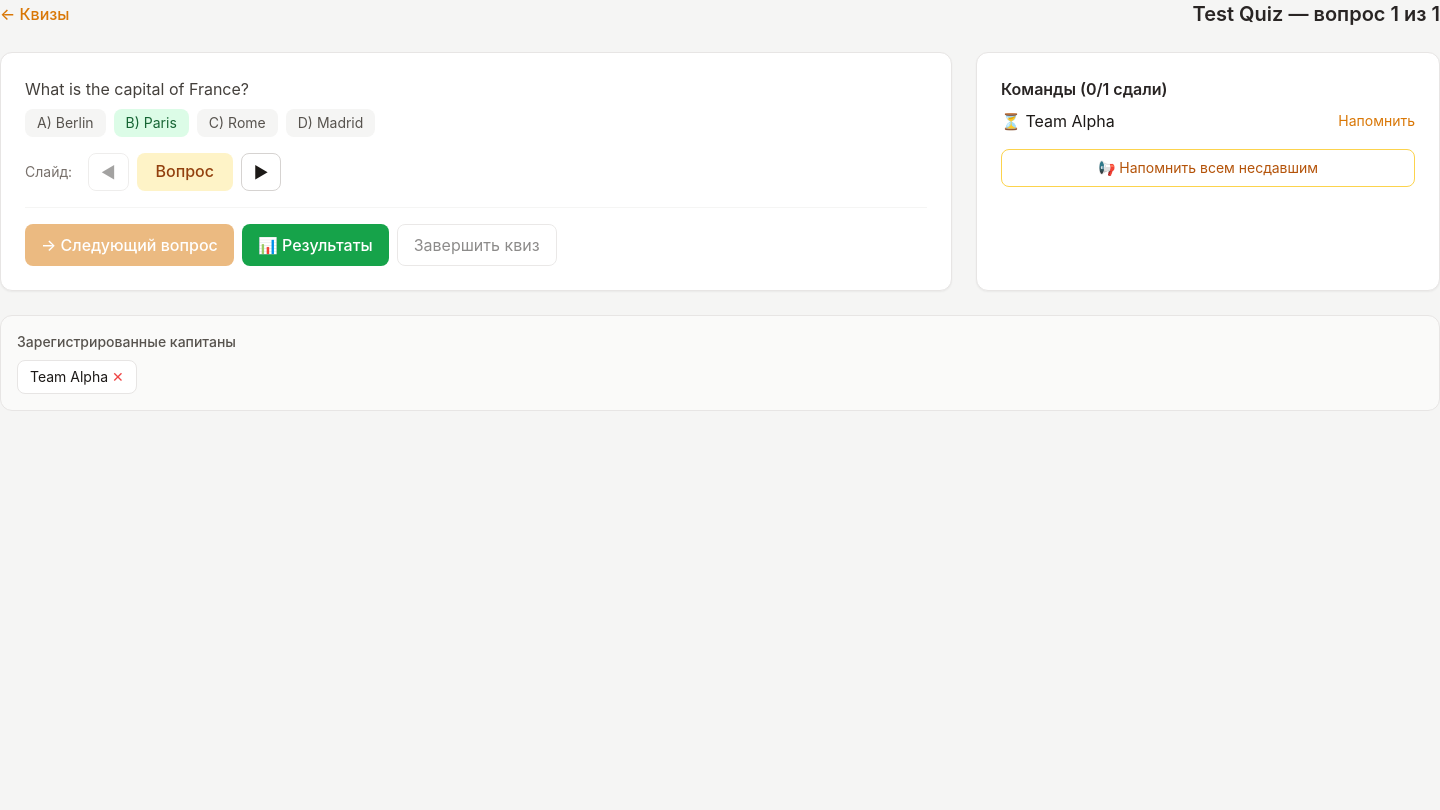
Game.jsx — playing: results modal (📊) › clicking '📊 Результаты' opens modal with loaded results
The image size is (1440, 810).
Expected: the text "What is the capital of France?" is shown, [25,77,249,101]
Step 1. Click the button "📊 Результаты" → (315, 245), box [242,224,389,266]
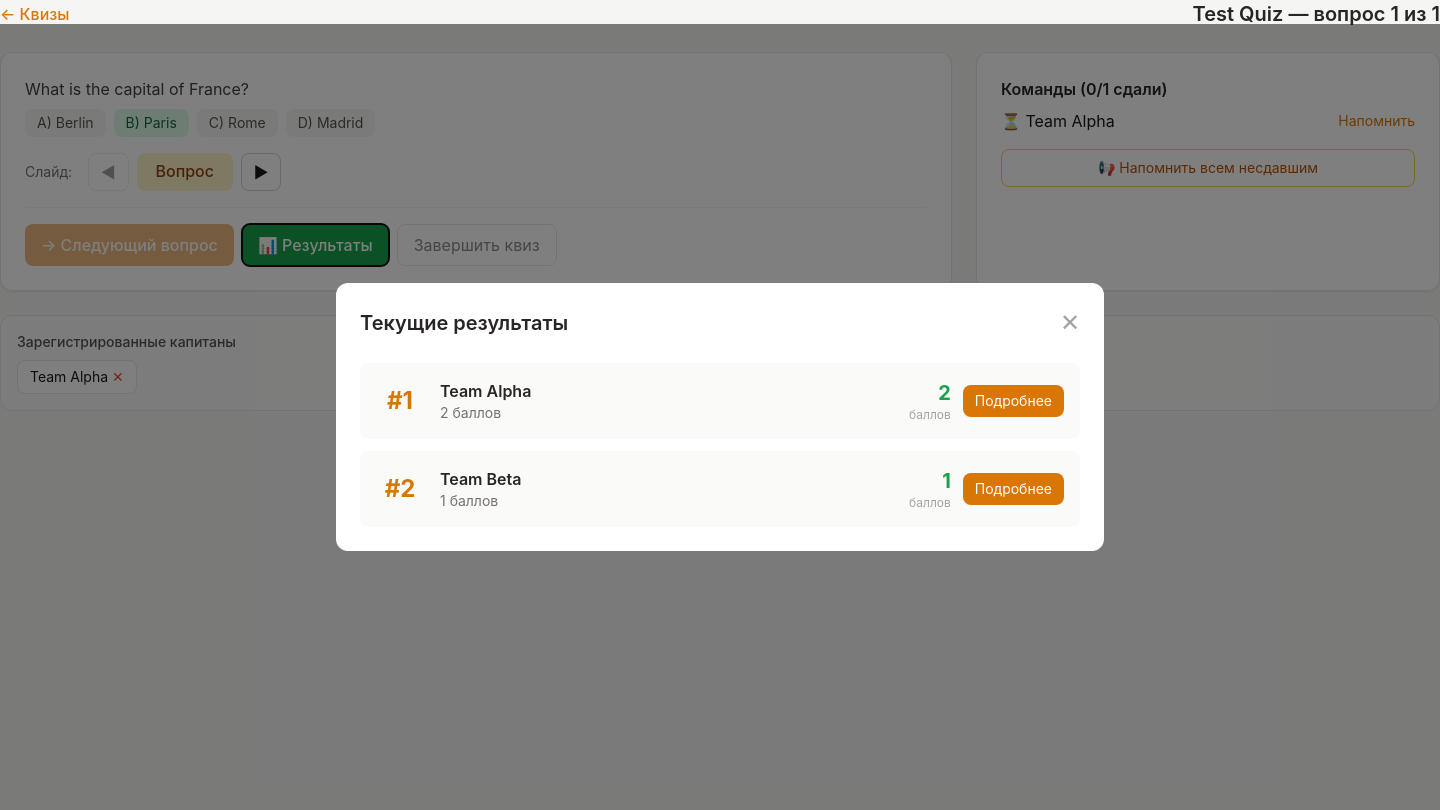
Expected: the text "Team Alpha" is shown, [30,368,108,385]
Result: the heading "Текущие результаты" is shown at [360,309,568,337]
Result: the text "Team Beta" is shown at [440,469,522,489]
